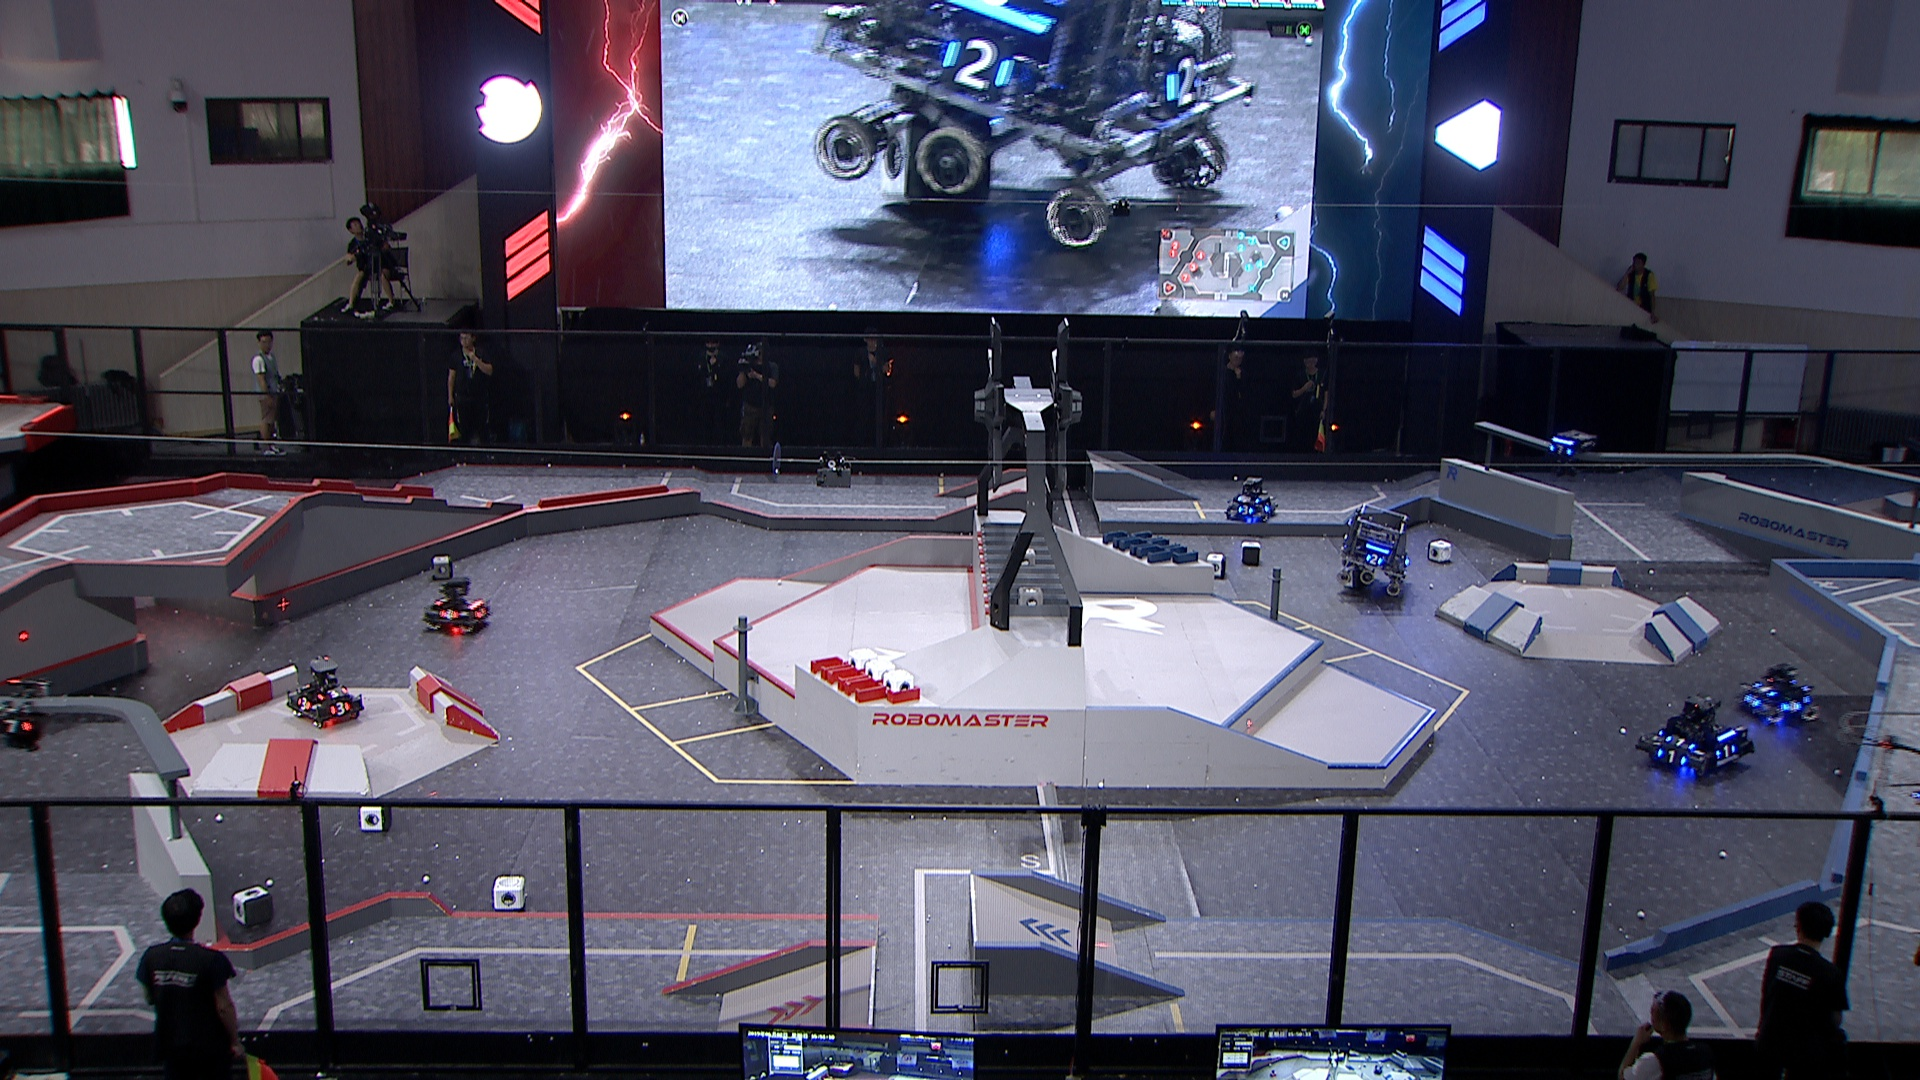armor: (1652, 746, 1695, 766), (1664, 736, 1698, 752), (314, 688, 348, 702), (1714, 741, 1738, 760), (1753, 680, 1776, 698), (1547, 444, 1575, 458), (1741, 694, 1762, 709), (1782, 699, 1804, 713), (438, 608, 460, 622), (295, 698, 315, 713), (1364, 553, 1385, 567), (1237, 504, 1259, 517), (328, 702, 351, 713), (1237, 495, 1262, 504), (472, 607, 489, 618)
car: (1636, 690, 1759, 779), (1335, 500, 1418, 600), (282, 655, 367, 727), (1733, 662, 1822, 725), (423, 574, 496, 637), (1222, 473, 1278, 524)
watcher: (1542, 429, 1596, 480)
